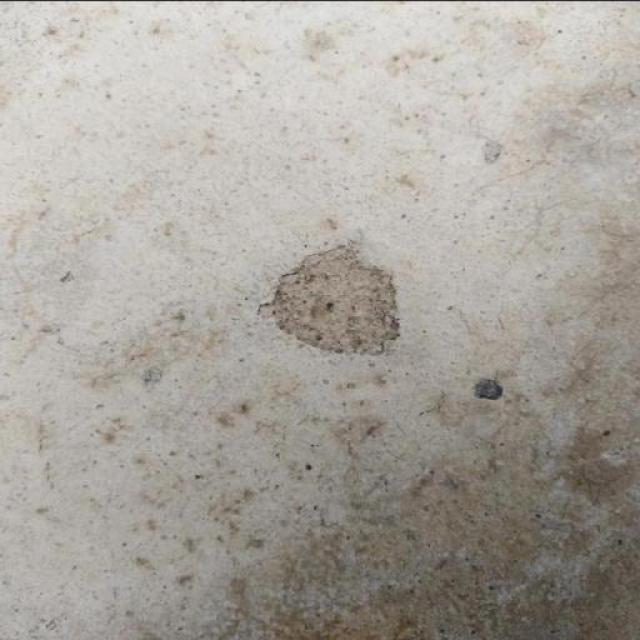D10: (265, 241, 401, 355)
